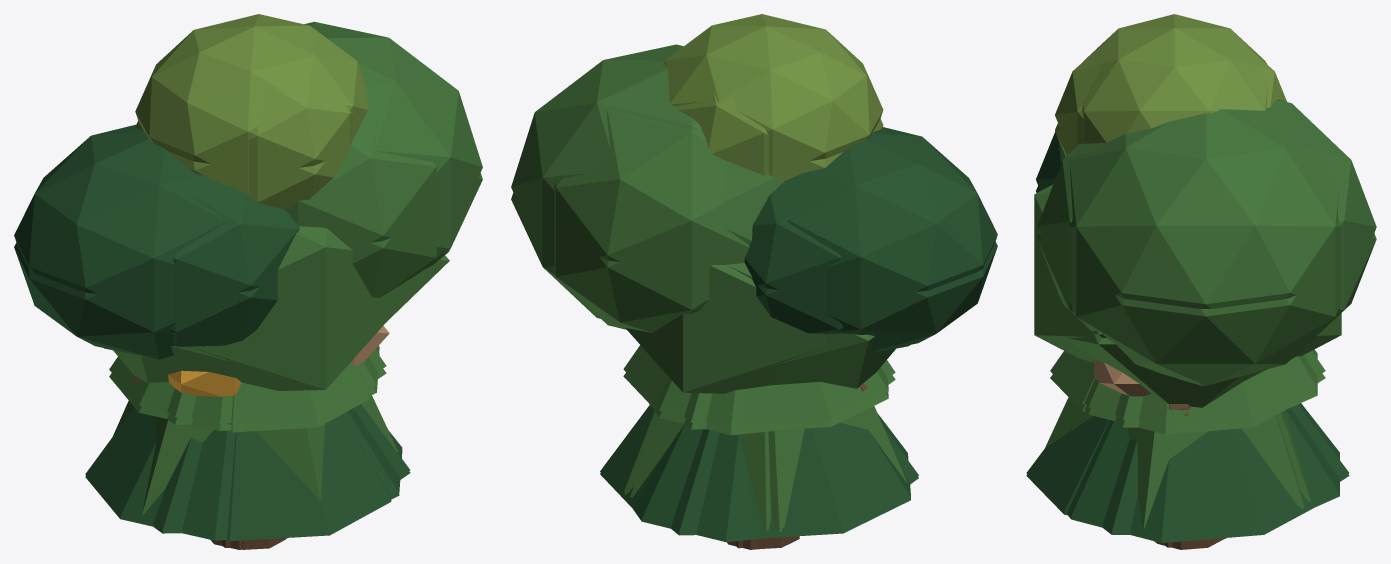
File: vegetation.b4f786f05420.glb
3 renders of one model, left to right at view 1: azimuth 30°, elevation 25°; view 2: azimuth 150°, elevation 25°; view 3: azimuth 270°, elevation 25°, orthographic.
Visible parts, largest first — view 1: birch-grove__near, mixed-grove__near, dead-pine__near, aspen-column__near, aspen-column__far, hawthorn-shrub__near, beech-round__near, mixed-grove__far, hawthorn-shrub__mid, hawthorn-shrub__far, beech-round__far, dead-pine__far (+2 smaller); view 2: birch-grove__near, mixed-grove__near, hawthorn-shrub__near, aspen-column__near, beech-round__near, mixed-grove__far, dead-pine__near, aspen-column__far, beech-round__far, hawthorn-shrub__far, dead-pine__far, dead-pine__mid (+3 smaller); view 3: birch-grove__near, hawthorn-shrub__near, beech-round__near, mixed-grove__near, dead-pine__near, hawthorn-shrub__far, aspen-column__near, aspen-column__far, beech-round__far, hawthorn-shrub__mid, fir-young__near, mixed-grove__far (+4 smaller).
Part boxes in pixels (x1,y1,x2,y2): birch-grove__near: (14,14,482,549); mixed-grove__near: (173,75,436,549); dead-pine__near: (168,362,391,538); aspen-column__near: (170,130,437,346); aspen-column__far: (190,260,419,390); hawthorn-shrub__near: (85,346,402,537); beech-round__near: (14,121,482,359); mixed-grove__far: (219,228,382,381); hawthorn-shrub__mid: (153,350,410,530); hawthorn-shrub__far: (113,395,398,514); beech-round__far: (113,255,449,383); dead-pine__far: (256,424,324,500); birch-grove__near: (511,14,997,549); mixed-grove__near: (554,90,840,549); hawthorn-shrub__near: (600,345,910,536); aspen-column__near: (553,149,843,333); beech-round__near: (511,119,997,352); mixed-grove__far: (635,265,823,384); dead-pine__near: (633,377,784,539); aspen-column__far: (625,277,825,393); beech-round__far: (769,333,895,388); hawthorn-shrub__far: (624,406,907,529); dead-pine__far: (630,418,771,530); dead-pine__mid: (671,393,719,532); birch-grove__near: (1068,14,1340,549); hawthorn-shrub__near: (1067,359,1322,540); beech-round__near: (1068,128,1340,415); mixed-grove__near: (1036,47,1376,542); dead-pine__near: (1026,349,1339,512); hawthorn-shrub__far: (1127,415,1303,528); aspen-column__near: (1036,123,1376,359); aspen-column__far: (1034,207,1341,362); beech-round__far: (1069,326,1266,407); hawthorn-shrub__mid: (1102,393,1143,532); fir-young__near: (1067,394,1322,542); mixed-grove__far: (1034,184,1341,327).
Bounding box in the file's own units: 1.21 × 1.32 × 0.8328.
